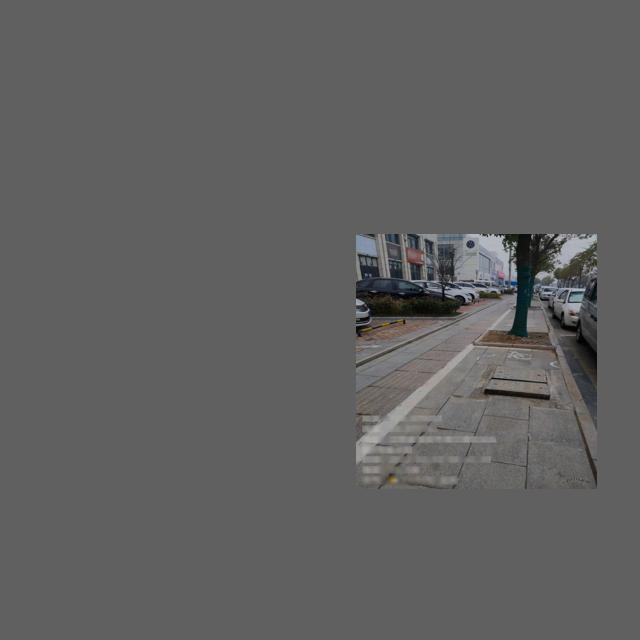uncovered: (487, 357, 554, 402)
